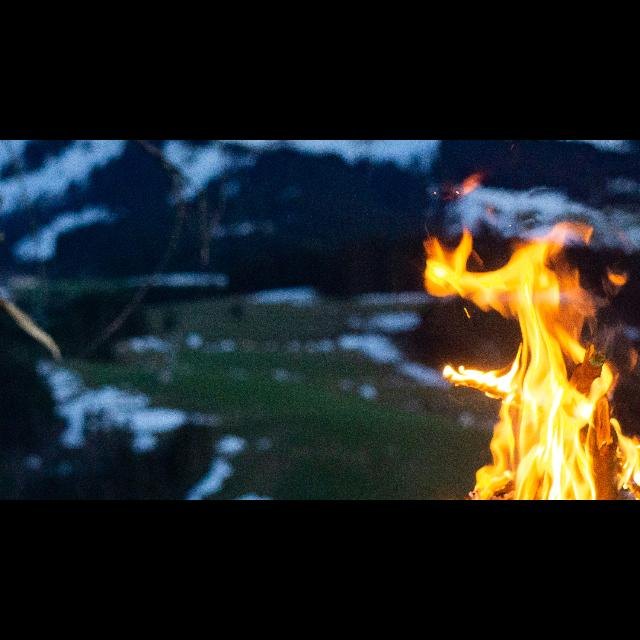fire: (425, 222, 640, 500)
